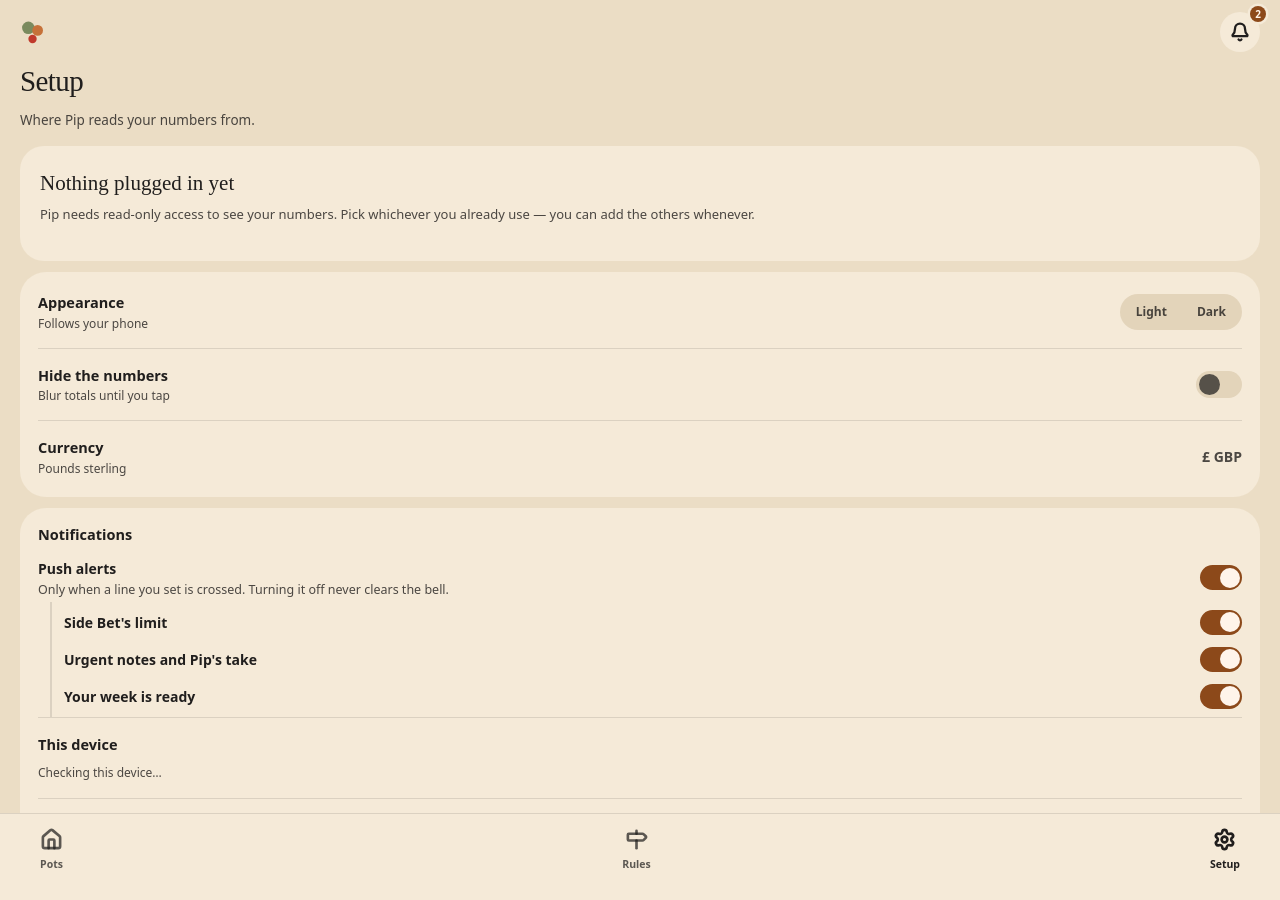
Test case: the bell › lists the last 30 days, grouped, newest first
Click the button named "Notifications, 2 unread" at {"x": 1240, "y": 32}, box left=1220, top=12, right=1260, bottom=52
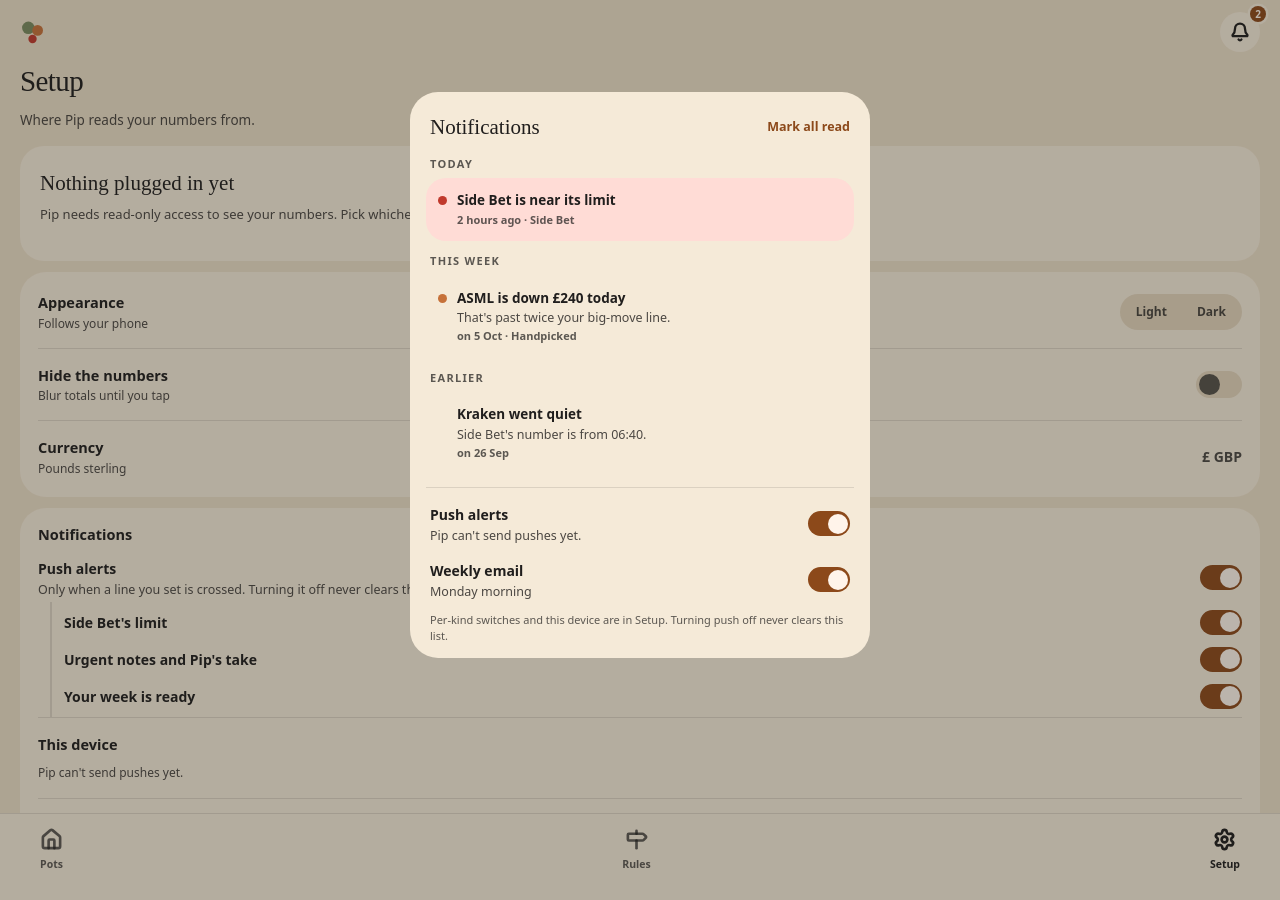
Expected: the headings read "Today", "This week", "Earlier", in this order, left=430, top=156, right=473, bottom=170; left=430, top=253, right=500, bottom=268; left=430, top=370, right=484, bottom=385
Expected: the dialog "Notifications" shows "Side Bet is near its limit", left=426, top=178, right=854, bottom=241
Expected: the dialog "Notifications" shows "2 hours ago · Side Bet", left=410, top=92, right=870, bottom=658
